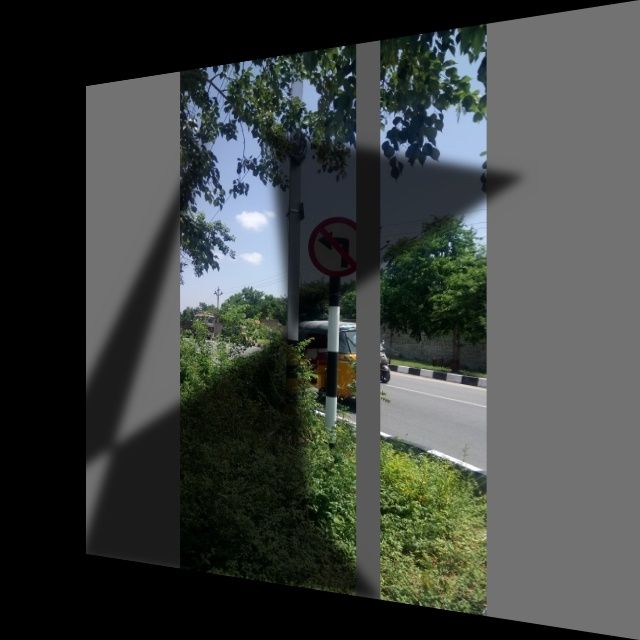Left_Turn_Prohibited: (306, 213, 371, 280)
